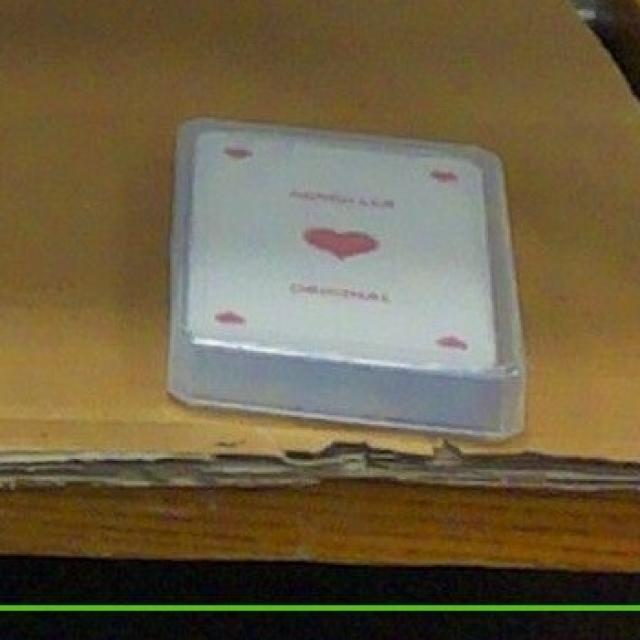Jasskarte: (166, 119, 521, 437)
